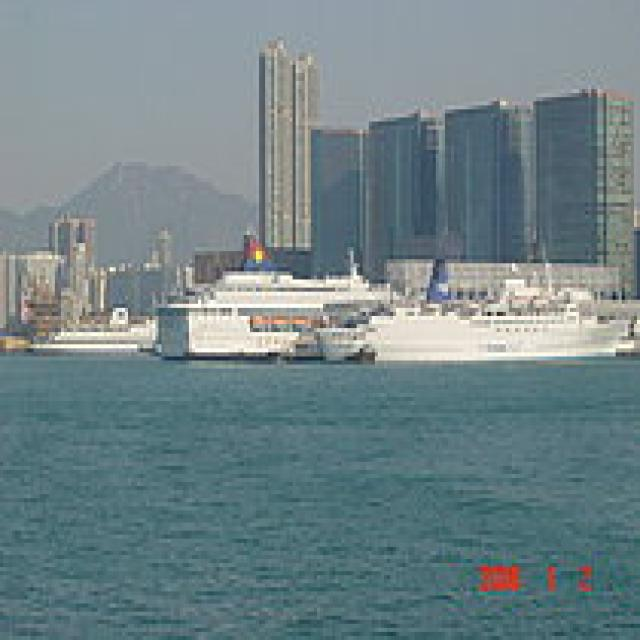Cruise: (150, 219, 402, 356), (363, 251, 631, 361)
